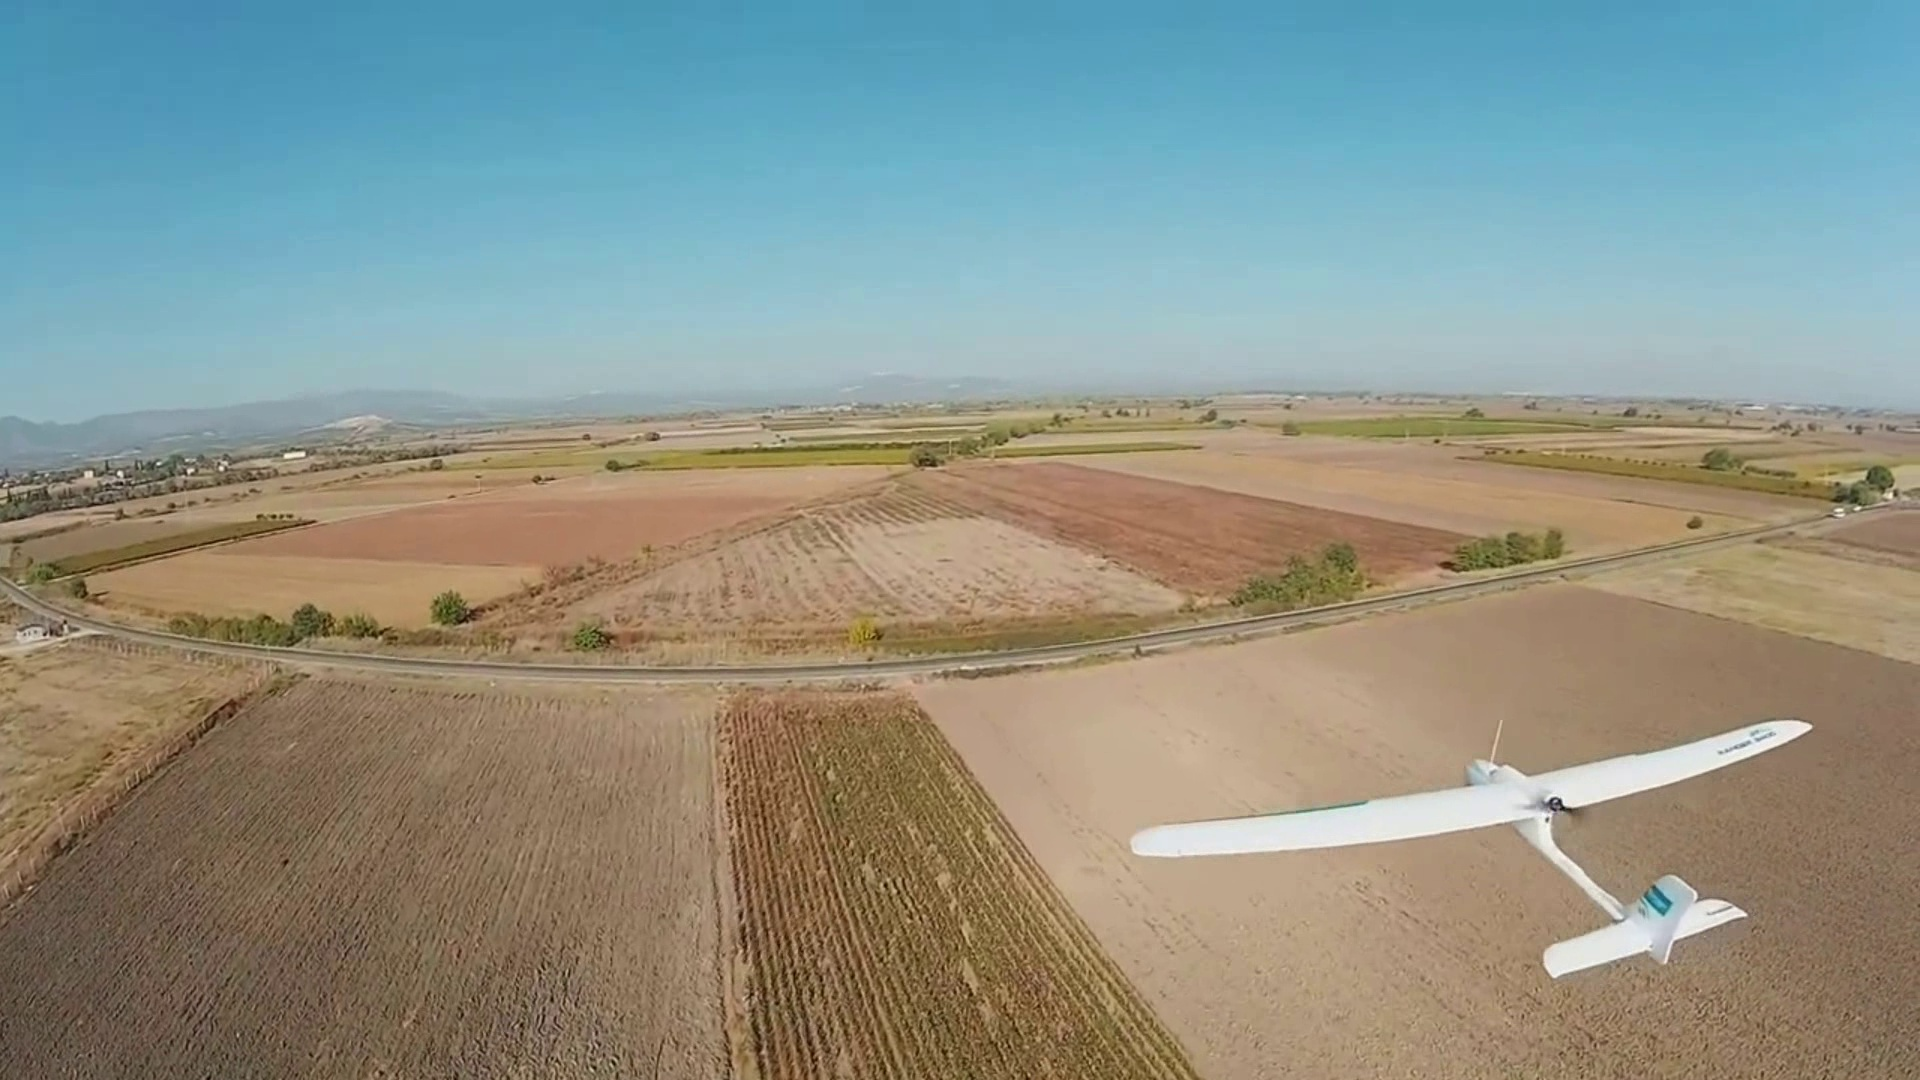airplane: (1129, 717, 1812, 975)
